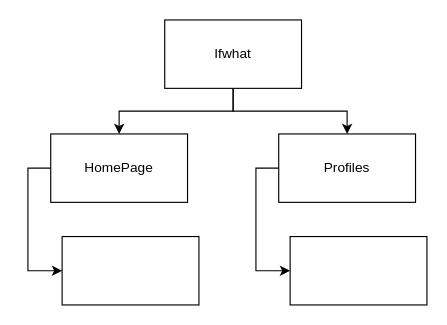
This 447x325 diagram has some shape labels left out. The centre of each missing label's shape, as x and y in pixels:
"Posts" goes at point (130, 270).
"User Posts" goes at point (358, 270).
